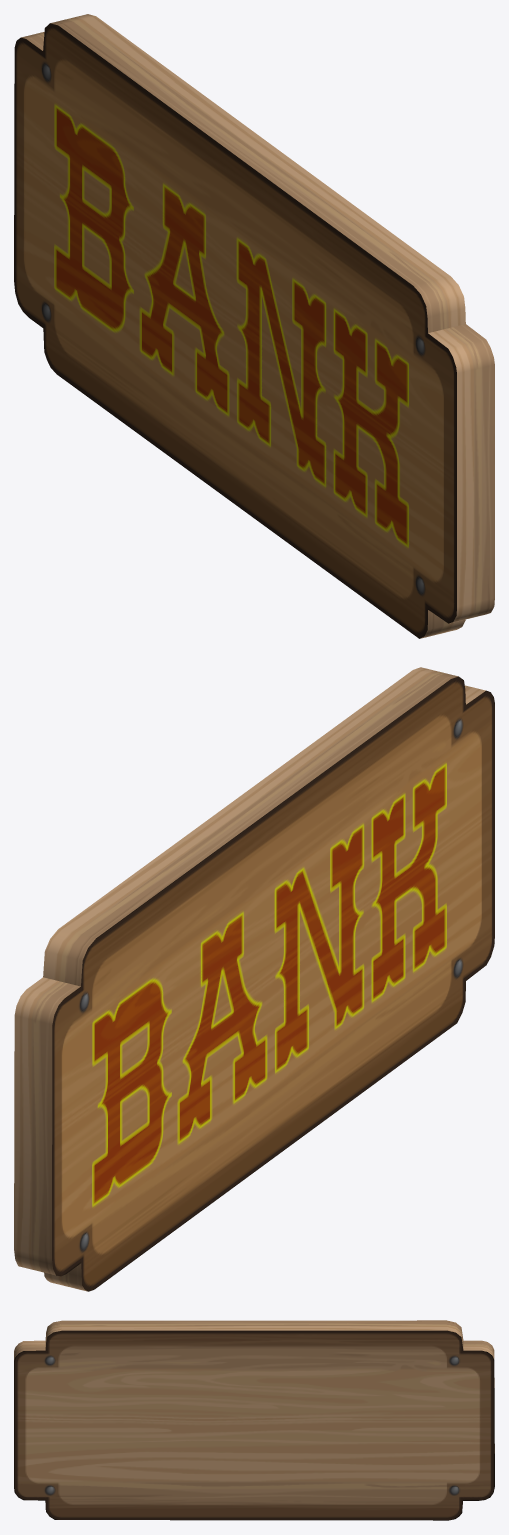
Rendered from Sign_Bank_01.FBX.
3 renders of one model, top to bottom at view 1: azimuth 30°, elevation 25°; view 2: azimuth 150°, elevation 25°; view 3: azimuth 270°, elevation 25°, orthographic. The views are drawn at different scales.
Parts seen in each view (by area): view 1: Sign_Bank_01; view 2: Sign_Bank_01; view 3: Sign_Bank_01.
Boxes of the visible parts, left/top/right/bottom form: Sign_Bank_01: left=14, top=14, right=494, bottom=638; Sign_Bank_01: left=14, top=667, right=494, bottom=1291; Sign_Bank_01: left=14, top=1320, right=494, bottom=1520.
Size of the model in its own units: 0.2256 by 1.99 by 4.57.
